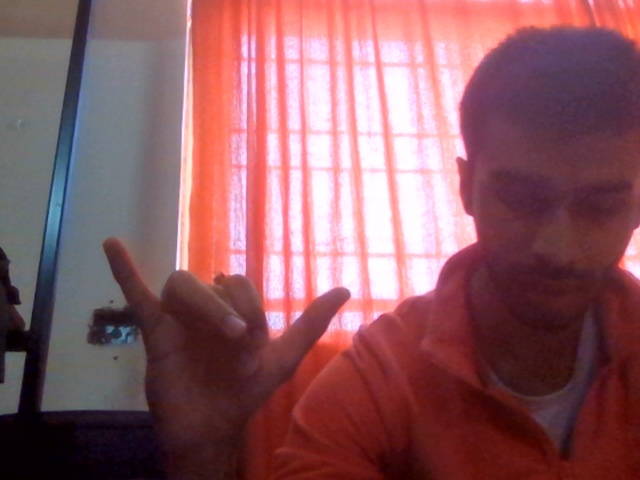Y: (83, 222, 394, 466)
